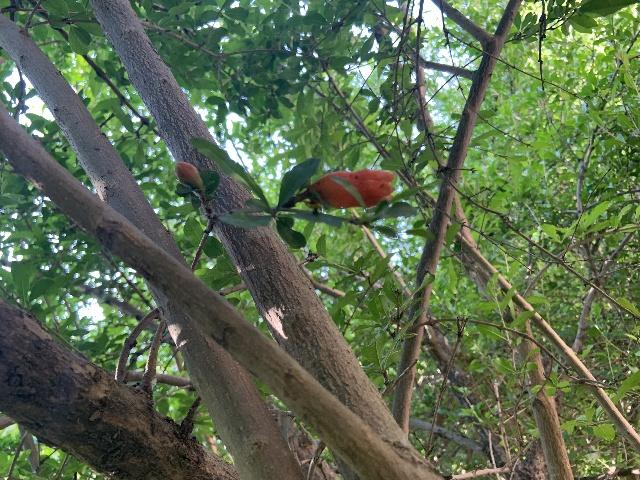bud: (175, 161, 203, 188)
flower: (311, 168, 396, 207)
